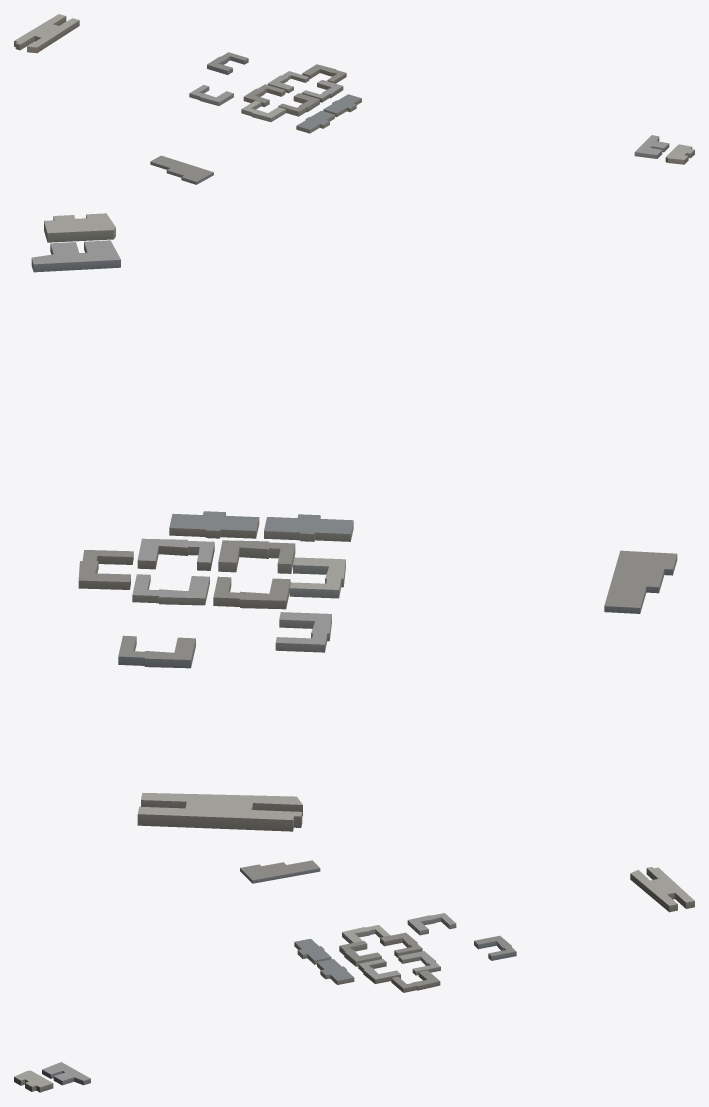
The model's file is bld_17_2.fbx.
3 renders of one model, top to bottom at view 1: azimuth 30°, elevation 25°; view 2: azimuth 150°, elevation 25°; view 3: azimuth 270°, elevation 25°, orthographic. The views are drawn at different scales.
Parts seen in each view (by area): view 1: bld_17_2_LOD0; view 2: bld_17_2_LOD0; view 3: bld_17_2_LOD0.
Part boxes in pixels (x1,y1,x2,y2): bld_17_2_LOD0: (14,14,694,184); bld_17_2_LOD0: (31,213,677,831); bld_17_2_LOD0: (14,860,694,1092).
Bounding box in the file's own units: 922 × 12.03 × 1158.
